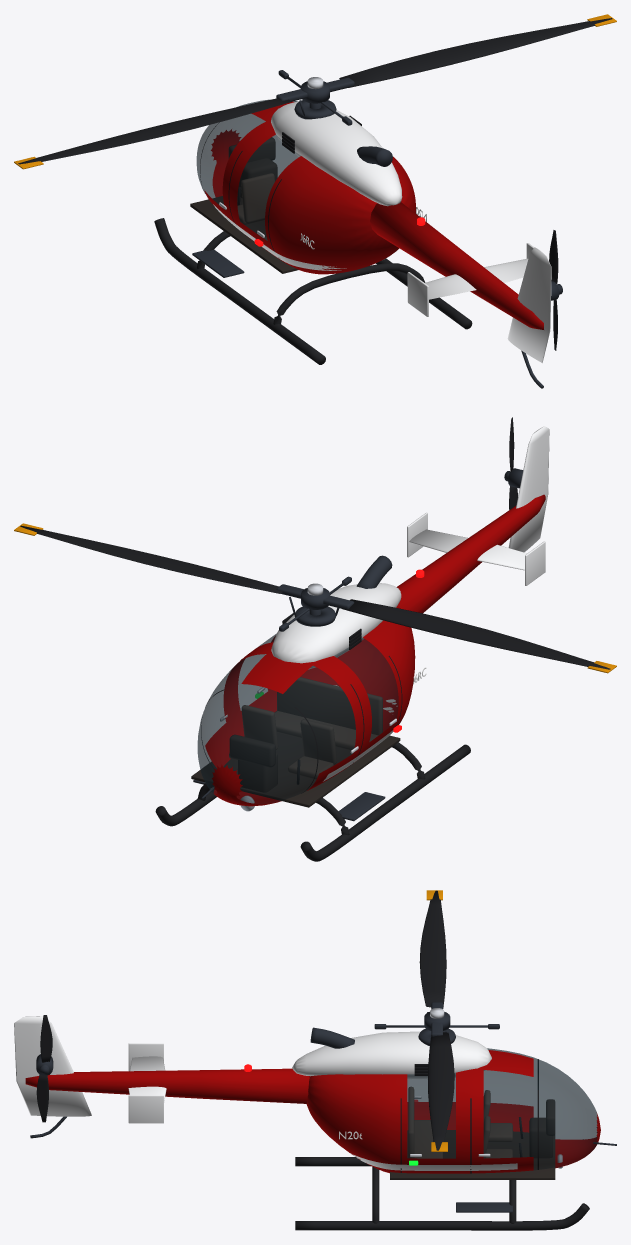
File: Helicopter.fbx
3 views of the same model, one above another, from view 1: azimuth 30°, elevation 25°; view 2: azimuth 150°, elevation 25°; view 3: azimuth 270°, elevation 25° (orthographic). The views are drawn at different scales.
Visible parts, largest first — view 1: Helicopter_Body, Helicopter_Trim, Helicopter_Spin1, Helicopter_Glass, Helicopter_Spin2; view 2: Helicopter_Body, Helicopter_Trim, Helicopter_Glass, Helicopter_Spin1; view 3: Helicopter_Body, Helicopter_Trim, Helicopter_Glass, Helicopter_Spin1, Helicopter_Spin2.
Boxes of the visible parts, bbox=[...] form: Helicopter_Body: bbox=[204, 101, 551, 362]; Helicopter_Trim: bbox=[154, 100, 559, 388]; Helicopter_Spin1: bbox=[14, 14, 616, 169]; Helicopter_Glass: bbox=[196, 99, 300, 240]; Helicopter_Spin2: bbox=[549, 230, 562, 350]; Helicopter_Body: bbox=[205, 426, 549, 806]; Helicopter_Trim: bbox=[155, 468, 523, 861]; Helicopter_Glass: bbox=[197, 634, 398, 803]; Helicopter_Spin1: bbox=[14, 523, 616, 673]; Helicopter_Body: bbox=[14, 1016, 600, 1173]; Helicopter_Trim: bbox=[30, 1027, 616, 1230]; Helicopter_Glass: bbox=[407, 1048, 597, 1169]; Helicopter_Spin1: bbox=[374, 890, 499, 1151]; Helicopter_Spin2: bbox=[36, 1015, 52, 1122].
Size of the model in its own units: 26.1 by 8.96 by 25.5.
